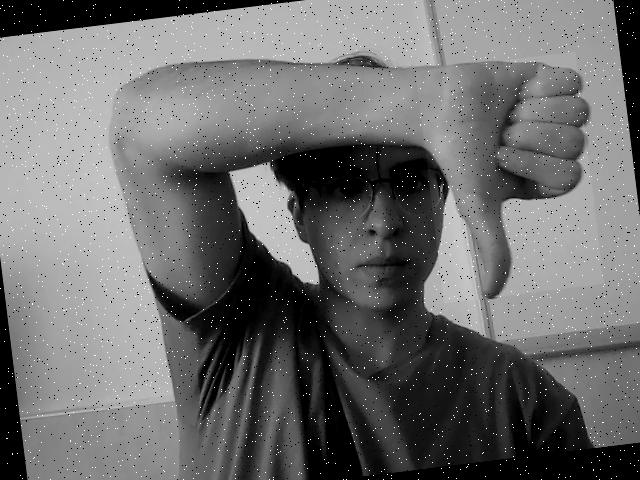bad: (426, 70, 585, 297)
